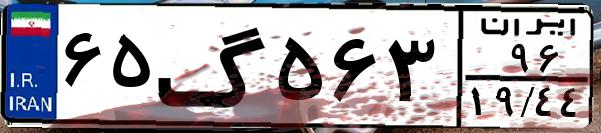1: (470, 70, 495, 125)
3: (385, 28, 445, 110)
4: (560, 70, 590, 125), (535, 70, 560, 125)
5: (270, 28, 330, 110), (110, 28, 156, 98)
6: (330, 28, 385, 110), (57, 26, 110, 100), (537, 27, 568, 80)
9: (508, 27, 537, 80), (495, 70, 520, 125)
گ: (156, 12, 270, 120)
